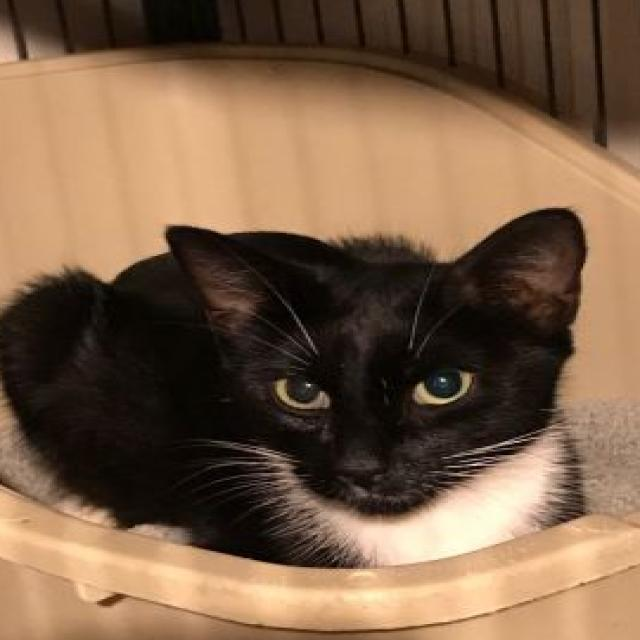Tuxedo: (0, 204, 595, 578)
